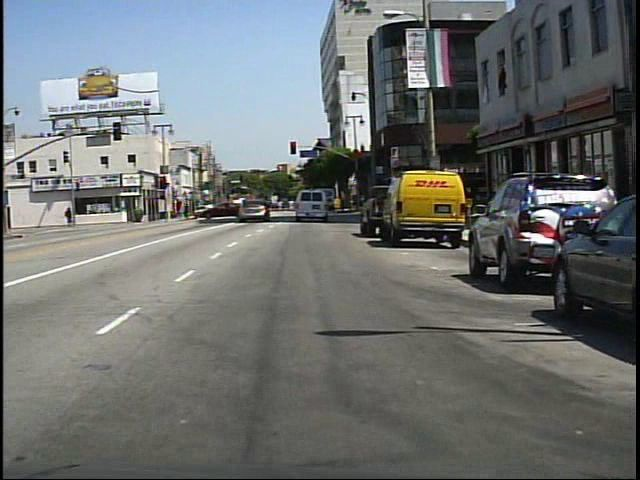person: (260, 194, 277, 224), (64, 206, 73, 226)
